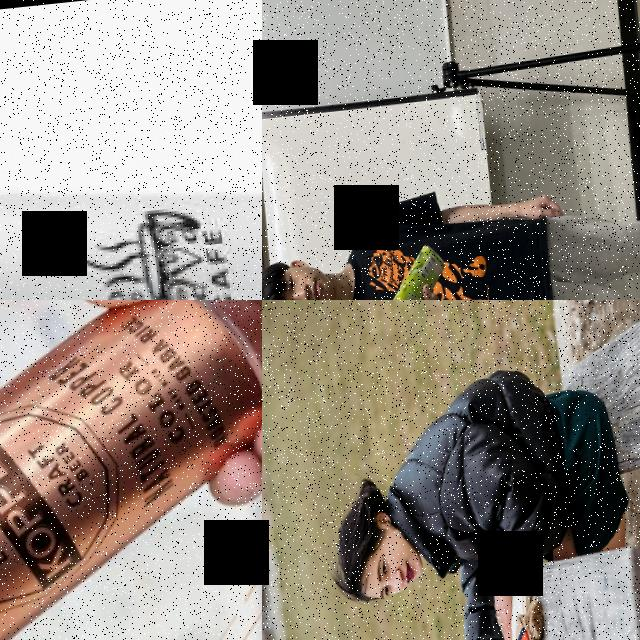can: (0, 300, 262, 640), (379, 240, 451, 300)
cup: (0, 132, 262, 300)
